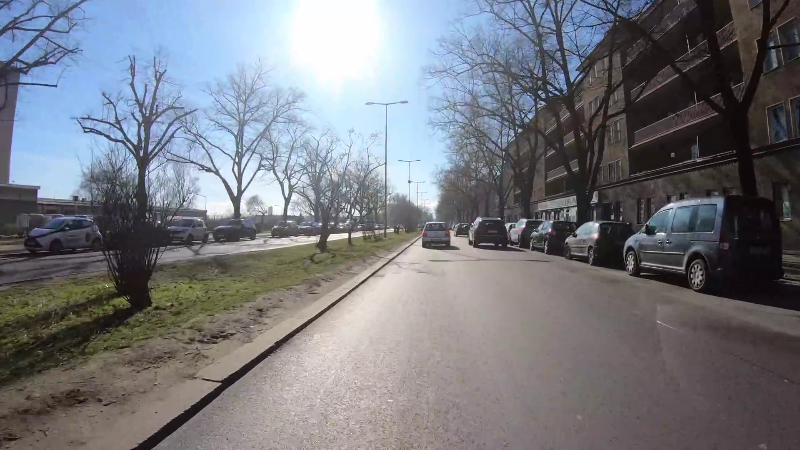Plate: (747, 245, 769, 254), (487, 228, 500, 234)
